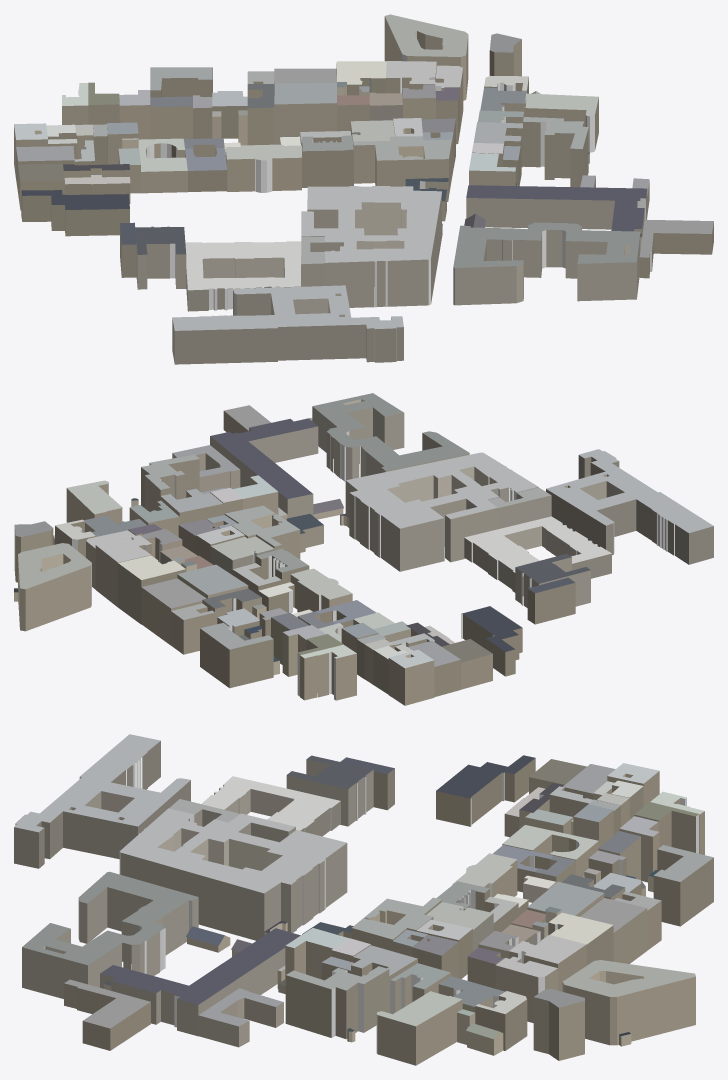
3 views of the same model, one above another, from view 1: azimuth 30°, elevation 25°; view 2: azimuth 150°, elevation 25°; view 3: azimuth 270°, elevation 25° (orthographic). The views are drawn at different scales.
Visible parts, largest first — view 1: tuile; view 2: tuile; view 3: tuile.
Part boxes in pixels (x1=…): tuile: x1=14, y1=14, x2=713, y2=364; tuile: x1=14, y1=393, x2=713, y2=705; tuile: x1=14, y1=734, x2=713, y2=1065.
Bounding box in the file's own units: 292 × 26.25 × 294.
